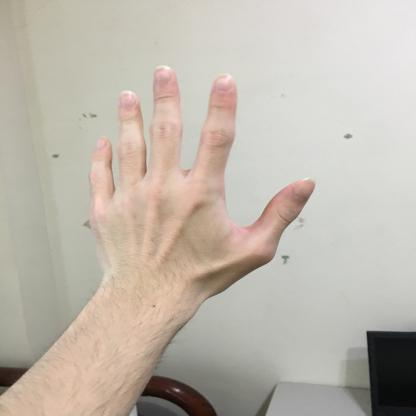bare_hand: (73, 56, 324, 316)
